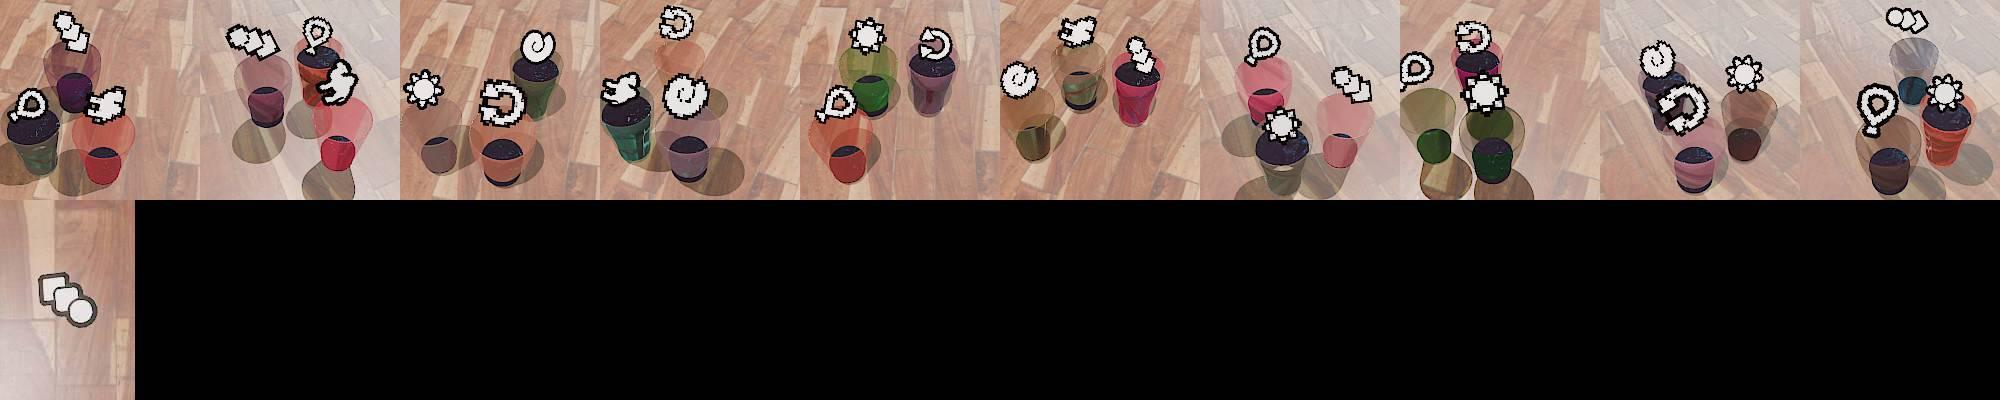icon: (36, 271, 99, 330), (1654, 82, 1710, 136), (477, 76, 528, 127), (1856, 82, 1899, 140), (661, 73, 710, 120), (312, 56, 358, 107), (1459, 73, 1510, 116), (224, 22, 282, 60), (1259, 104, 1305, 144), (403, 68, 445, 110), (52, 9, 91, 55), (1329, 64, 1371, 104), (1925, 73, 1968, 112), (815, 84, 858, 122), (84, 84, 128, 122), (1723, 55, 1764, 94), (1639, 39, 1677, 82), (599, 70, 644, 106), (6, 87, 51, 122), (848, 15, 888, 55), (999, 60, 1040, 98), (1245, 25, 1283, 65), (1399, 50, 1435, 92), (1057, 14, 1097, 51), (519, 28, 557, 65), (1454, 19, 1492, 56), (916, 24, 953, 61), (657, 5, 694, 41), (1885, 6, 1930, 36), (301, 15, 333, 56), (1124, 34, 1156, 74)
